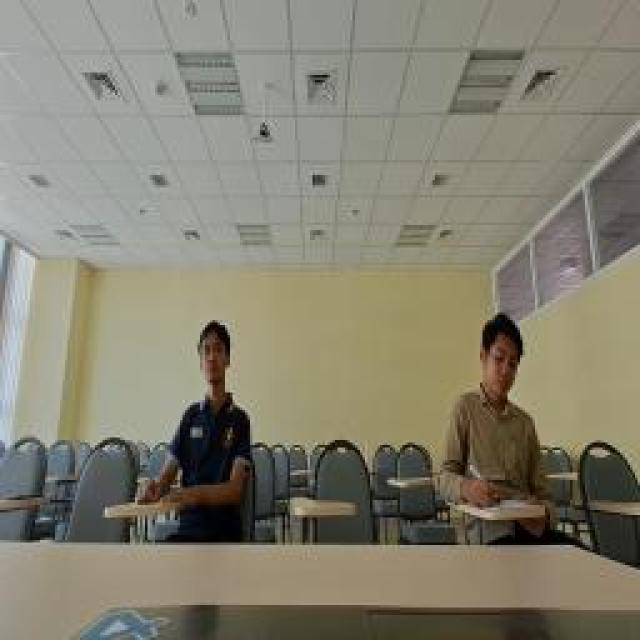sleep: (435, 312, 553, 510)
study: (145, 320, 250, 500)
